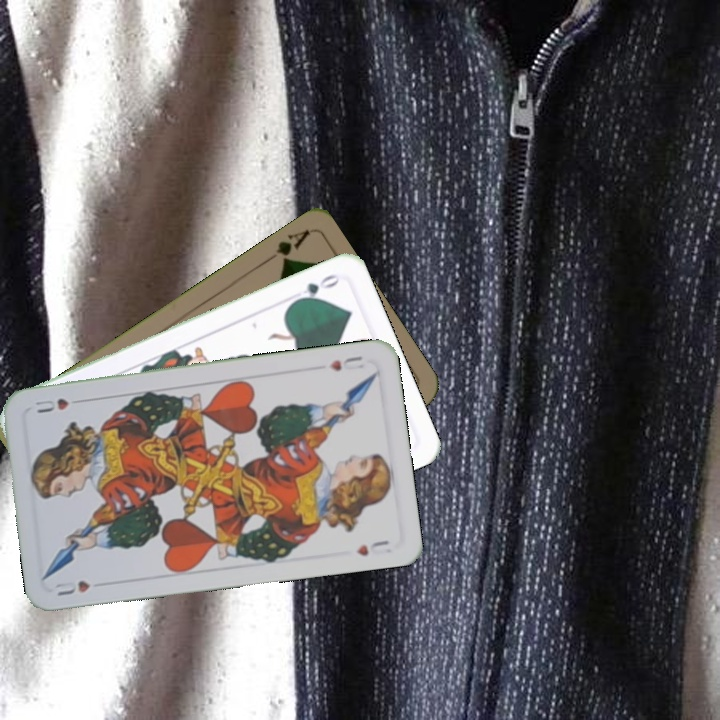GA: (260, 225, 312, 268)
GO: (289, 270, 342, 306)
HU: (325, 351, 367, 374), (51, 576, 93, 598)
